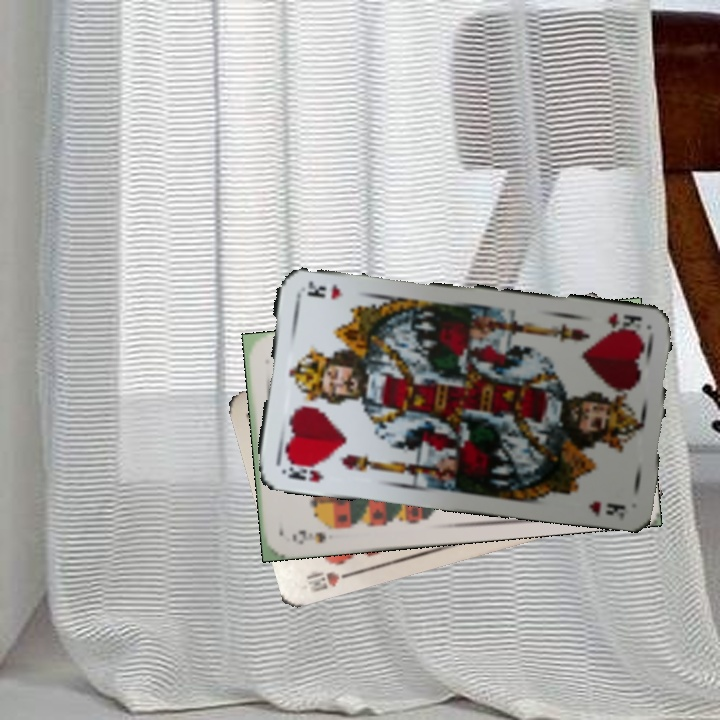H10: (302, 566, 359, 595)
HK: (280, 457, 326, 485), (604, 309, 646, 337)
S9: (288, 519, 344, 547)
